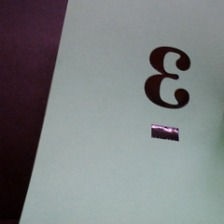green3: (140, 42, 199, 148)
